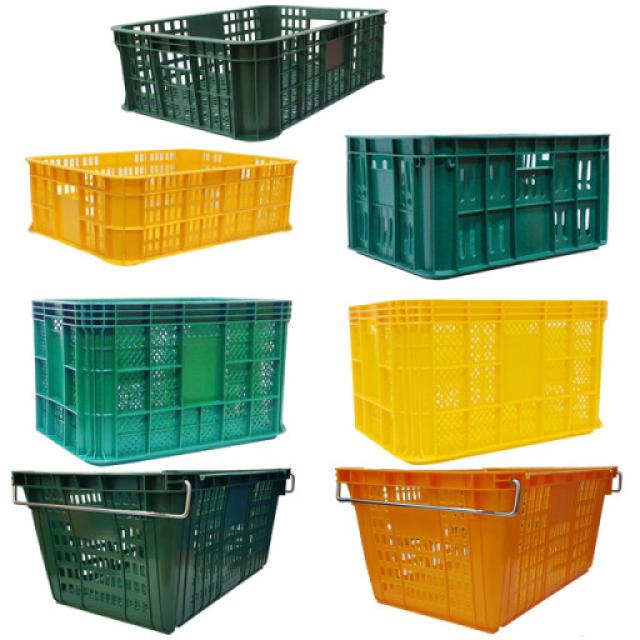basket: (338, 469, 621, 633), (13, 471, 291, 635), (32, 296, 291, 468), (349, 299, 609, 467), (25, 137, 303, 272), (349, 136, 610, 279)
